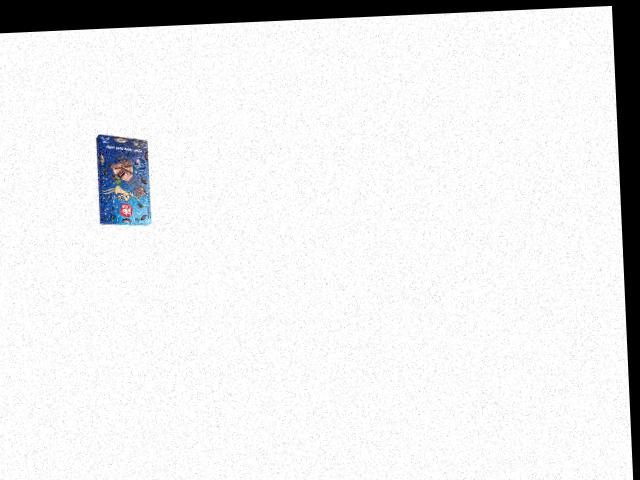chocolate: (89, 131, 158, 229)
